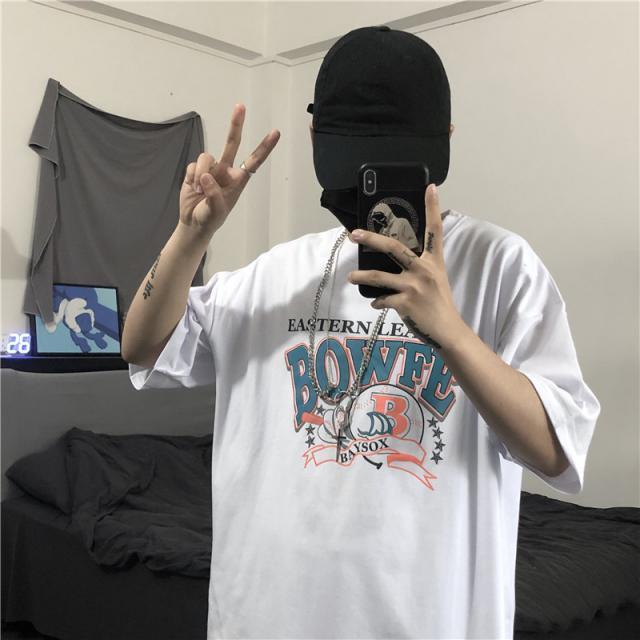Shirt: (133, 213, 604, 640)
